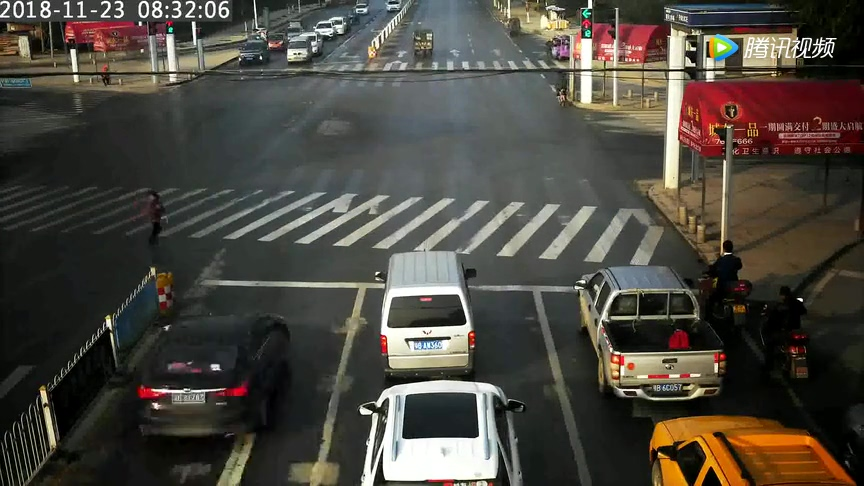car: (129, 291, 323, 451), (562, 258, 737, 417), (370, 231, 505, 378), (347, 377, 527, 486), (403, 14, 443, 70), (224, 36, 273, 72), (282, 33, 318, 69), (352, 1, 366, 20)
person: (706, 234, 753, 344), (134, 183, 181, 252), (546, 65, 572, 113), (96, 57, 119, 94)
